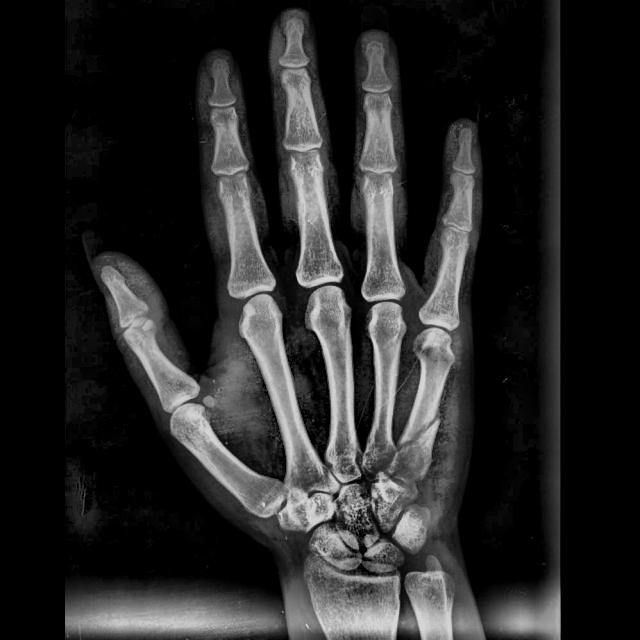fracture: (394, 414, 442, 457), (125, 314, 157, 350)
